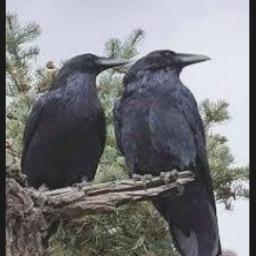Crow: (112, 50, 225, 256), (19, 53, 129, 193)
